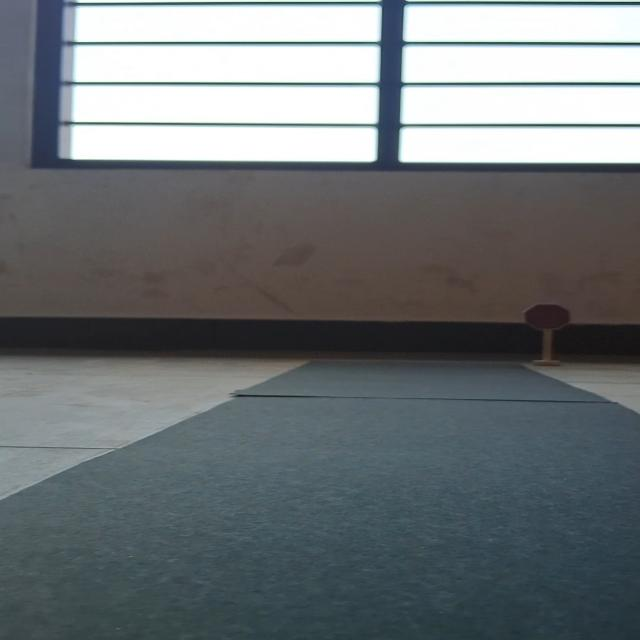Stop: (522, 302, 572, 331)
